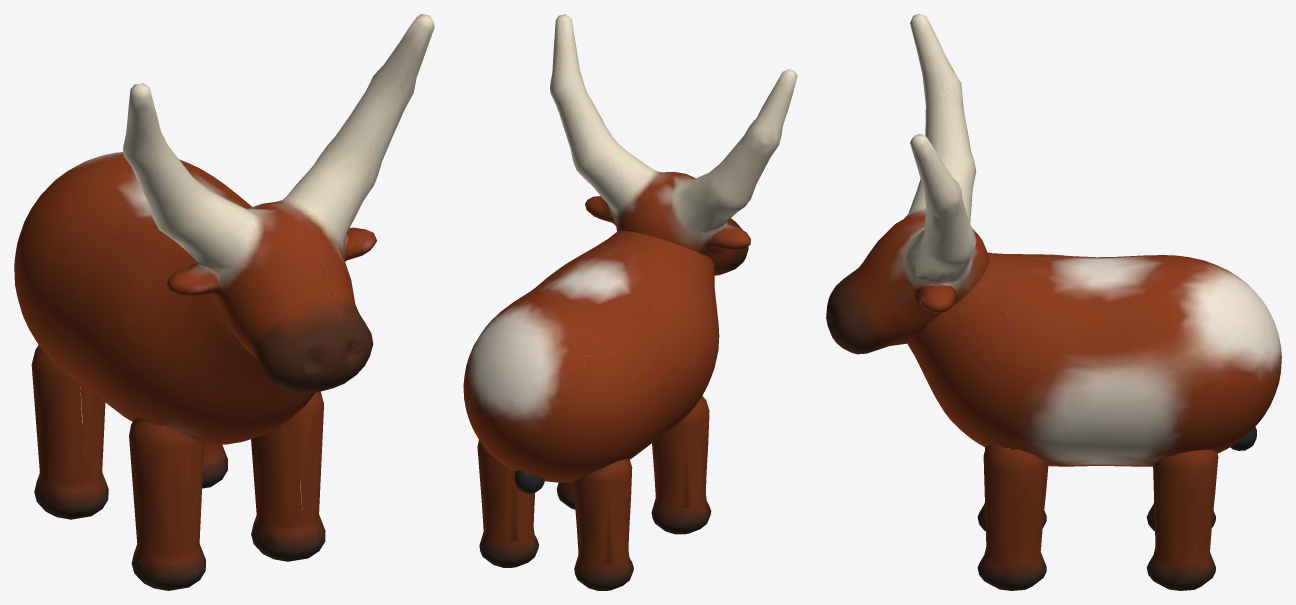
The model's file is animal_watusi.glb.
The picture shows the model from 3 angles, left to right: view 1: azimuth 30°, elevation 25°; view 2: azimuth 150°, elevation 25°; view 3: azimuth 270°, elevation 25°; orthographic projection. The views are drawn at different scales.
Parts seen in each view (by area): view 1: animal_watusi, head, leg0, leg2, leg1, leg3; view 2: animal_watusi, head, leg2, leg0, leg3, tail; view 3: animal_watusi, head, leg1, leg3.
Part boxes in pixels (x1,y1,x2,y2): animal_watusi: (14,152,315,445); head: (123,14,434,392); leg0: (129,418,205,590); leg2: (31,345,108,519); leg1: (251,391,325,561); leg3: (202,444,227,488); animal_watusi: (463,230,719,482); head: (550,14,797,275); leg2: (573,458,633,590); leg0: (651,396,711,534); leg3: (477,440,538,567); tail: (514,470,544,493); animal_watusi: (907,252,1281,466); head: (826,14,989,354); leg1: (977,445,1048,590); leg3: (1146,449,1218,590).
Size of the model in its own units: 0.4306 by 0.764 by 0.6466.
1 material, 1 textured.
